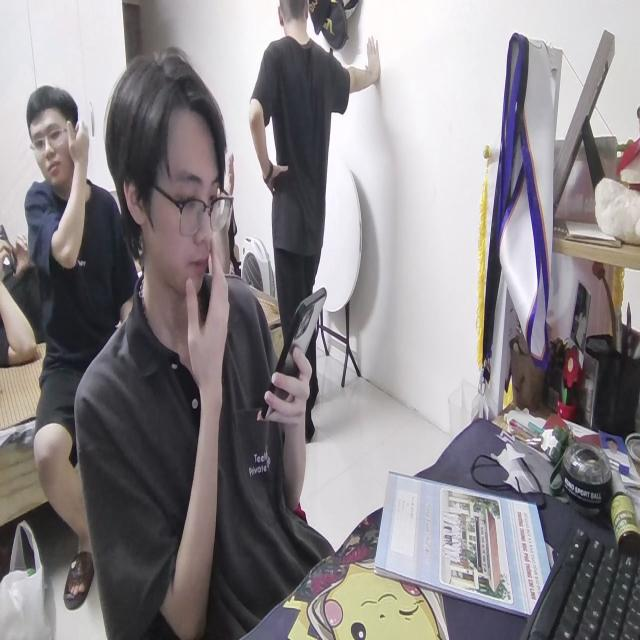book: (376, 464, 555, 622)
extra_person: (18, 91, 135, 604), (251, 7, 385, 401)
phone: (255, 287, 330, 409)
student: (77, 49, 335, 627)
